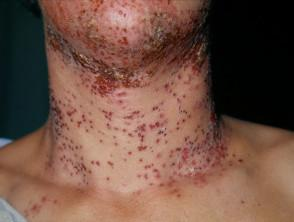Eczema: (202, 101, 229, 145), (44, 19, 71, 58), (86, 69, 119, 96), (69, 47, 99, 76), (201, 139, 230, 169), (68, 151, 95, 183), (192, 18, 209, 68), (183, 163, 214, 189), (106, 58, 134, 86), (164, 26, 190, 55), (149, 5, 182, 27), (49, 93, 68, 131), (145, 156, 168, 187), (170, 49, 196, 75), (224, 144, 250, 170), (173, 142, 195, 172), (73, 103, 94, 134), (82, 13, 101, 46), (23, 193, 48, 218), (172, 98, 194, 126), (120, 74, 149, 95), (147, 19, 169, 45), (128, 40, 154, 61), (161, 172, 182, 197), (41, 150, 62, 175), (151, 114, 169, 143), (135, 117, 148, 157), (82, 0, 114, 15), (66, 21, 88, 42), (113, 27, 130, 54), (59, 130, 77, 154), (98, 107, 118, 126), (114, 0, 143, 13), (140, 61, 159, 80), (125, 108, 142, 129), (160, 79, 178, 95)
